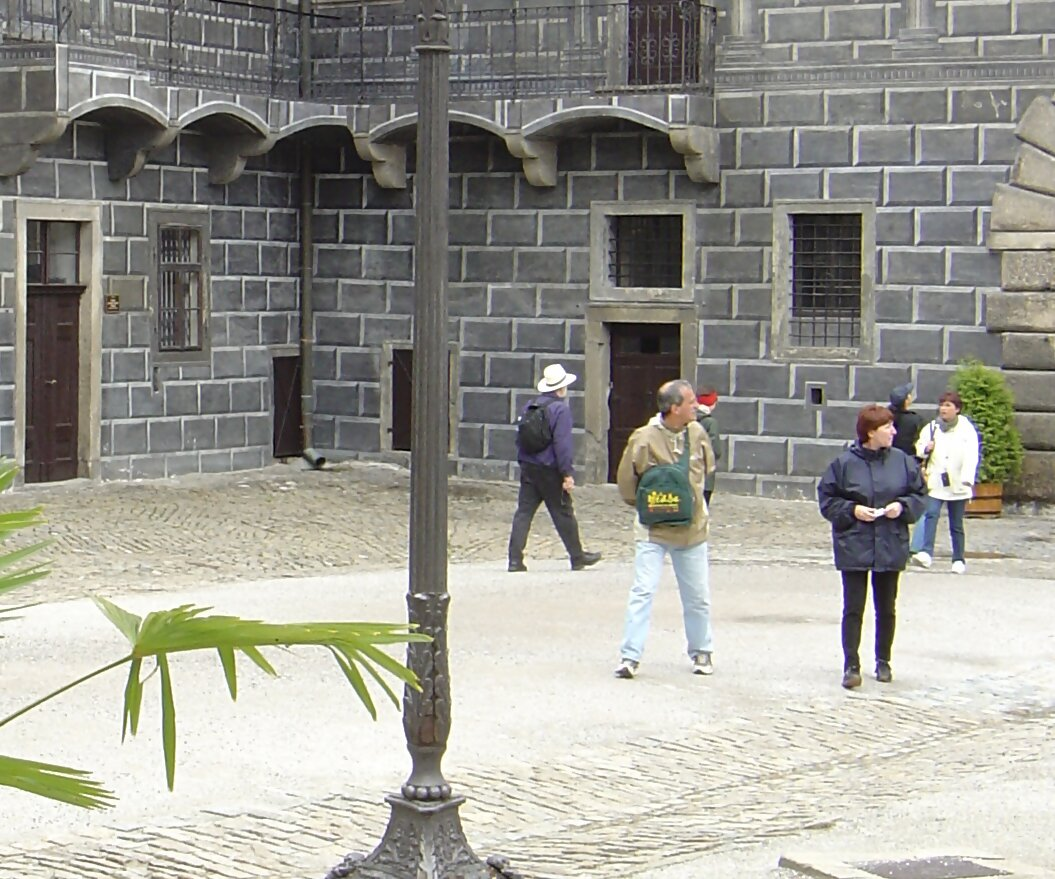person: (612, 361, 722, 684), (822, 395, 914, 700), (504, 356, 607, 579)
